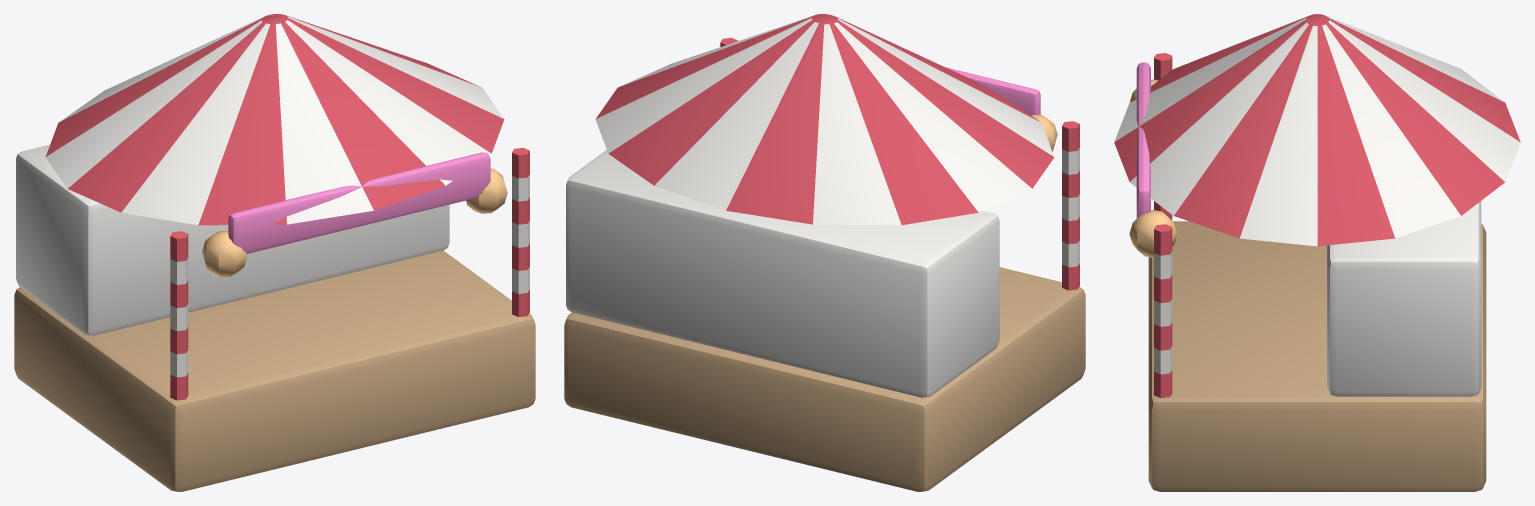
Rendered from Booth_Neon_A.fbx.
3 renders of one model, left to right at view 1: azimuth 30°, elevation 25°; view 2: azimuth 150°, elevation 25°; view 3: azimuth 270°, elevation 25°, orthographic. The views are drawn at different scales.
Parts seen in each view (by area): view 1: Booth_Neon_A; view 2: Booth_Neon_A; view 3: Booth_Neon_A.
Boxes of the visible parts, <box> form: Booth_Neon_A: <box>14,14,535,491</box>; Booth_Neon_A: <box>564,14,1085,491</box>; Booth_Neon_A: <box>1114,14,1520,491</box>.
Bounding box in the file's own units: 5.1 × 4.4 × 4.22.
